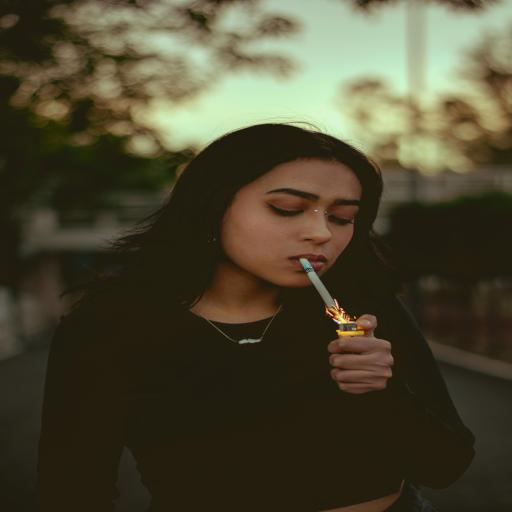terdeteksi merokok: (264, 216, 395, 349)
